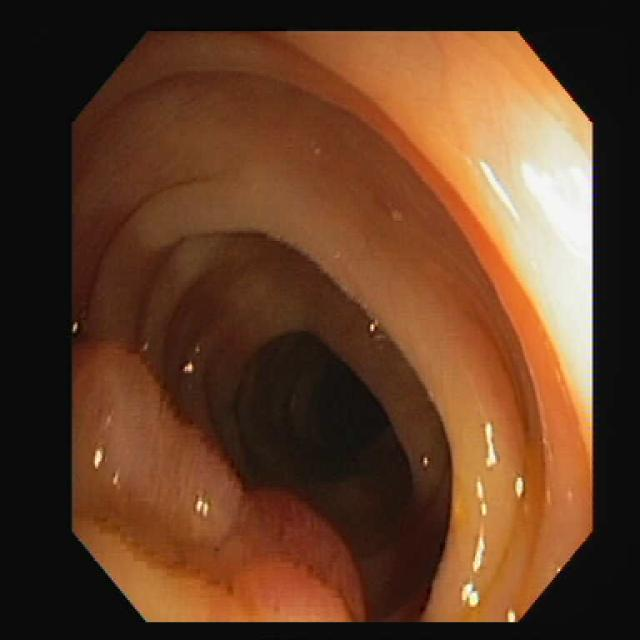tumor: (73, 340, 365, 620)
